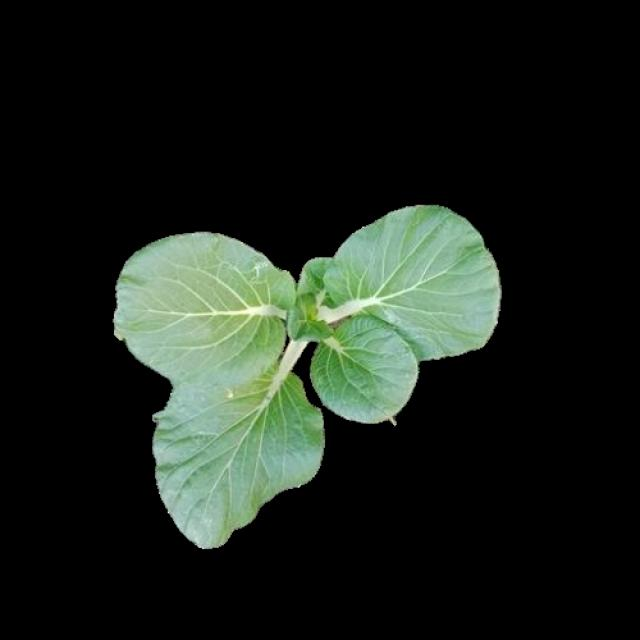healthy: (114, 203, 498, 542)
not-mature: (117, 206, 500, 545)
